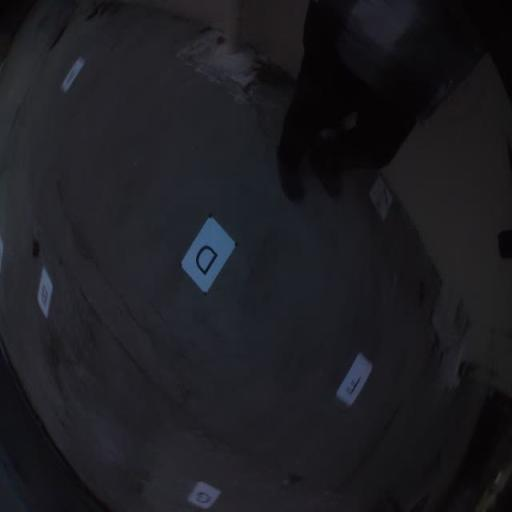B: (36, 267, 54, 319)
D: (180, 216, 236, 294)
E: (335, 353, 374, 408)
G: (187, 481, 221, 510)
K: (368, 176, 394, 222), (62, 55, 86, 94)
